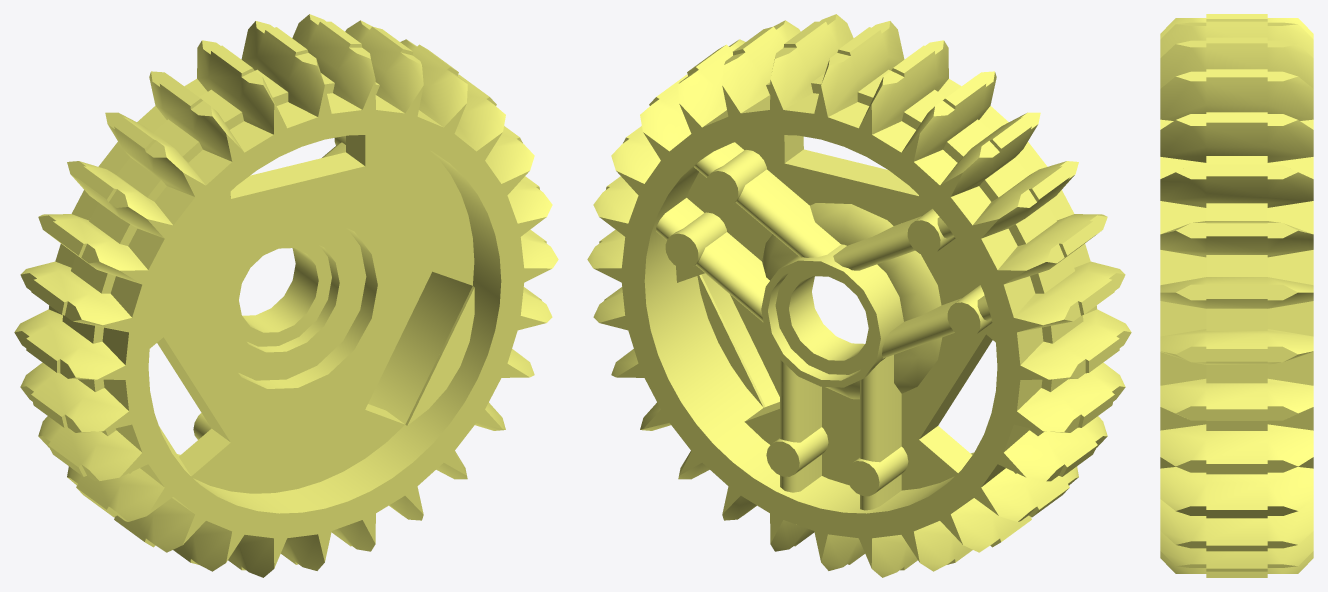
3 views of the same model, side by side, from view 1: azimuth 30°, elevation 25°; view 2: azimuth 150°, elevation 25°; view 3: azimuth 270°, elevation 25° (orthographic).
Visible parts, largest first — view 1: 65413.dat; view 2: 65413.dat; view 3: 65413.dat.
Boxes of the visible parts, x1=… form: 65413.dat: x1=14, y1=14, x2=558, y2=577; 65413.dat: x1=587, y1=14, x2=1131, y2=577; 65413.dat: x1=1160, y1=14, x2=1313, y2=577.
Size of the model in its own units: 0.0294 by 0.0294 by 0.008.
